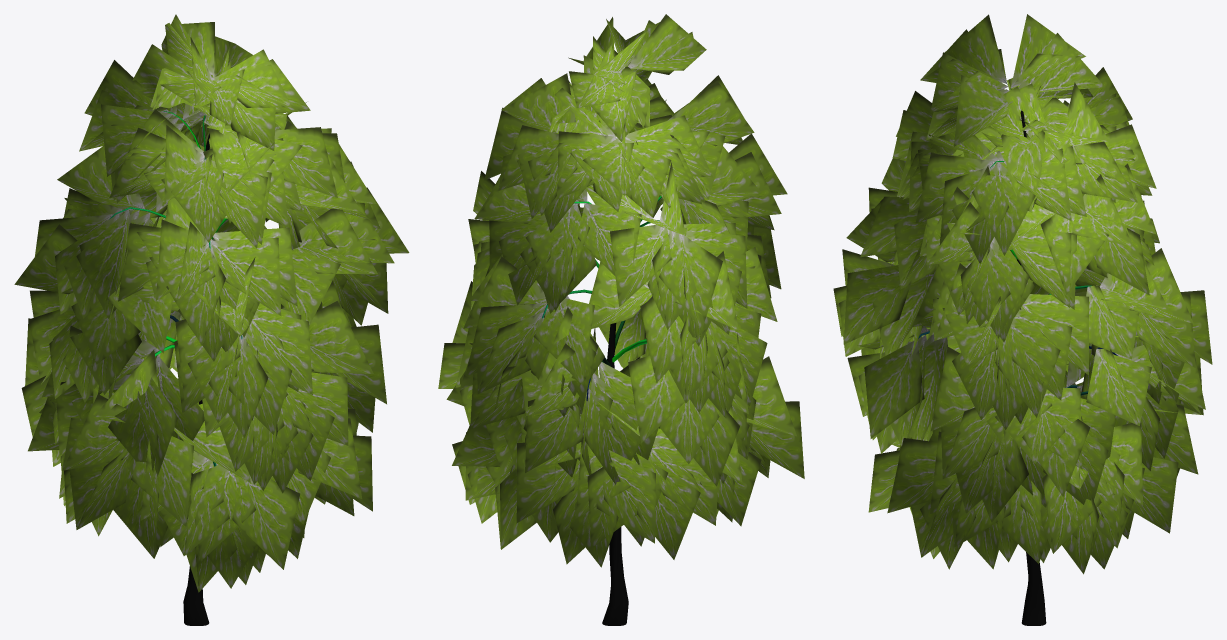
The model's file is BirchTree02.fbx.
3 views of the same model, side by side, from view 1: azimuth 30°, elevation 25°; view 2: azimuth 150°, elevation 25°; view 3: azimuth 270°, elevation 25° (orthographic). The views are drawn at different scales.
Visible parts, largest first — view 1: Tree_1, Tree_0; view 2: Tree_1, Tree_0; view 3: Tree_1, Tree_0.
Part boxes in pixels (<box>): Tree_1: <box>14,14,409,592</box>; Tree_0: <box>109,111,242,625</box>; Tree_1: <box>438,14,804,567</box>; Tree_0: <box>542,196,661,625</box>; Tree_1: <box>833,14,1212,574</box>; Tree_0: <box>918,80,1117,625</box>.
Size of the model in its own units: 69.2 by 119 by 68.86.
